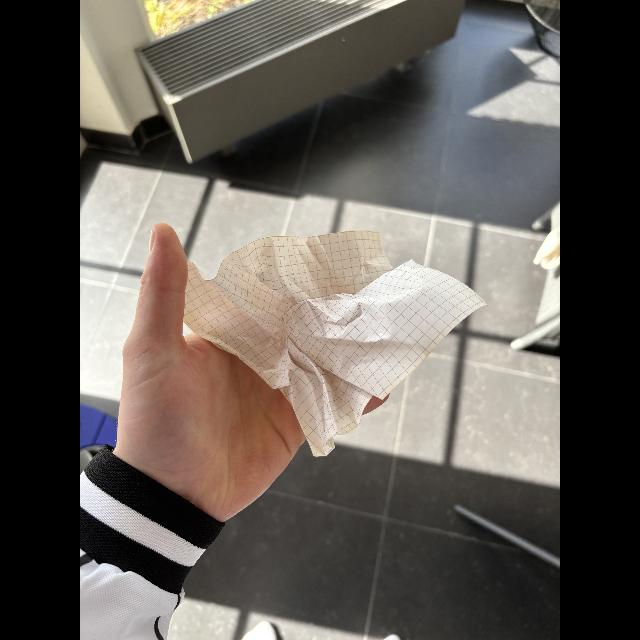Paper: (178, 226, 490, 459)
